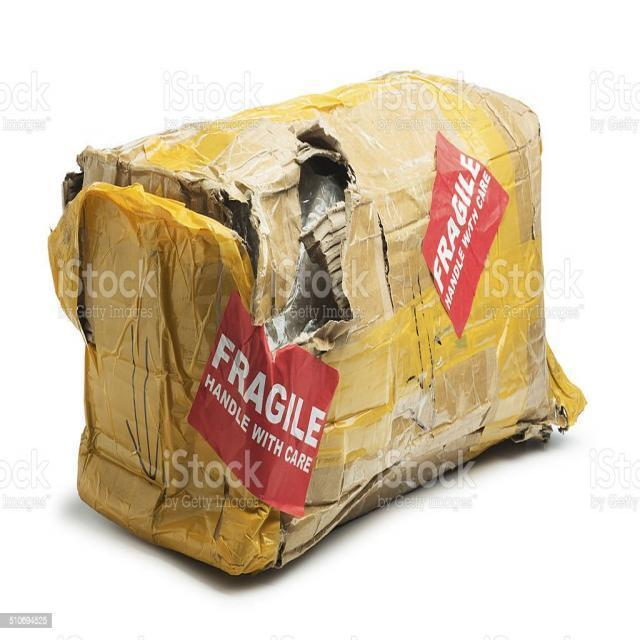damaged: (267, 124, 366, 347)
